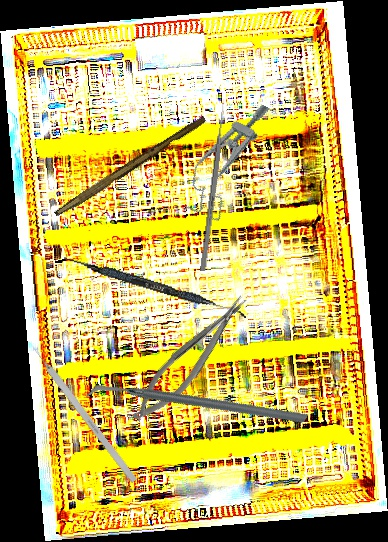Chopper: (85, 309, 309, 503)
Hook Surgical: (27, 340, 138, 484)
Needle Holder: (122, 289, 260, 430)
Pusher: (199, 98, 228, 272)
Scalpel Handle: (53, 112, 208, 222)
Spatula Surgical: (62, 254, 249, 319)
Speculum: (174, 90, 280, 226)
